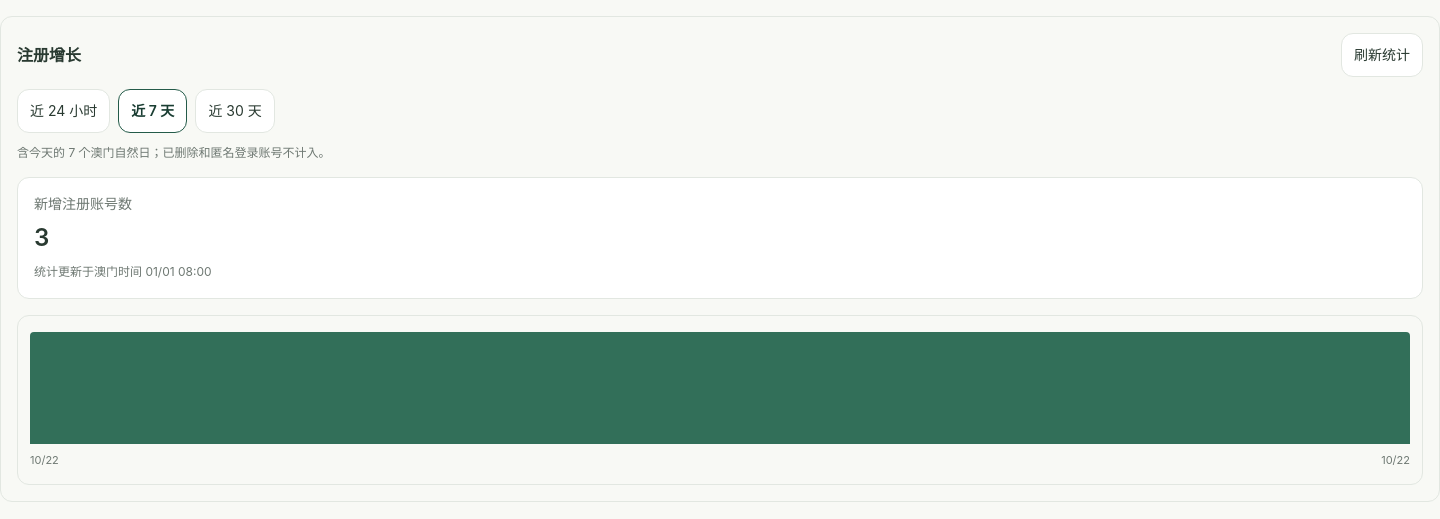
Test: admin growth and usage panels › clears previous growth counts after a failed refresh
The width and height of the screenshot is (1440, 519).
Click the button "刷新统计".
click(1382, 55)  # box [1341,33,1423,77]
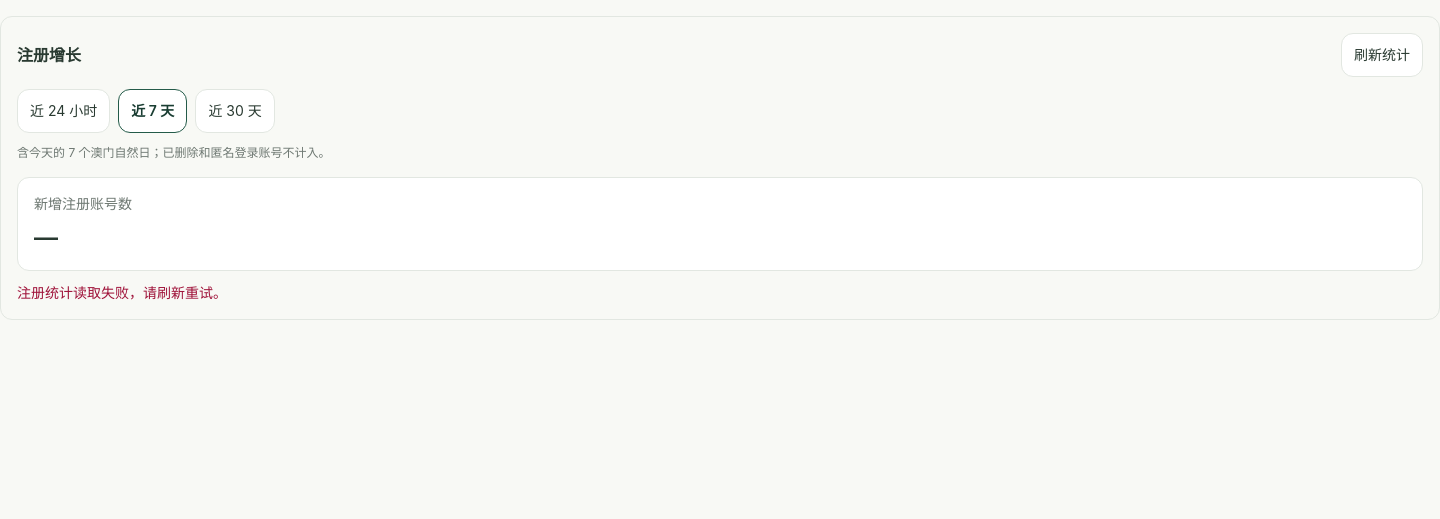
Check: the message "注册统计读取失败，请刷新重试。" is shown, box [17,284,227,301]
Check: the text named "新增注册账号数" reads "—", box [34,223,58,252]
